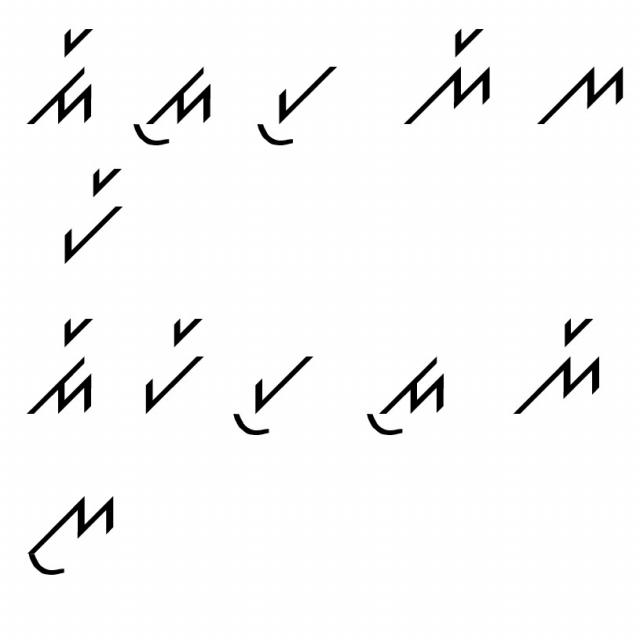dar: (16, 311, 107, 428), (26, 20, 103, 134)
daw: (350, 337, 452, 445), (128, 54, 217, 158)
na: (534, 55, 630, 142)
nar: (504, 316, 607, 423), (403, 15, 497, 131)
naw: (20, 483, 121, 580)
par: (133, 306, 213, 418), (58, 164, 134, 264)
paw: (228, 348, 320, 444), (253, 63, 352, 149)
